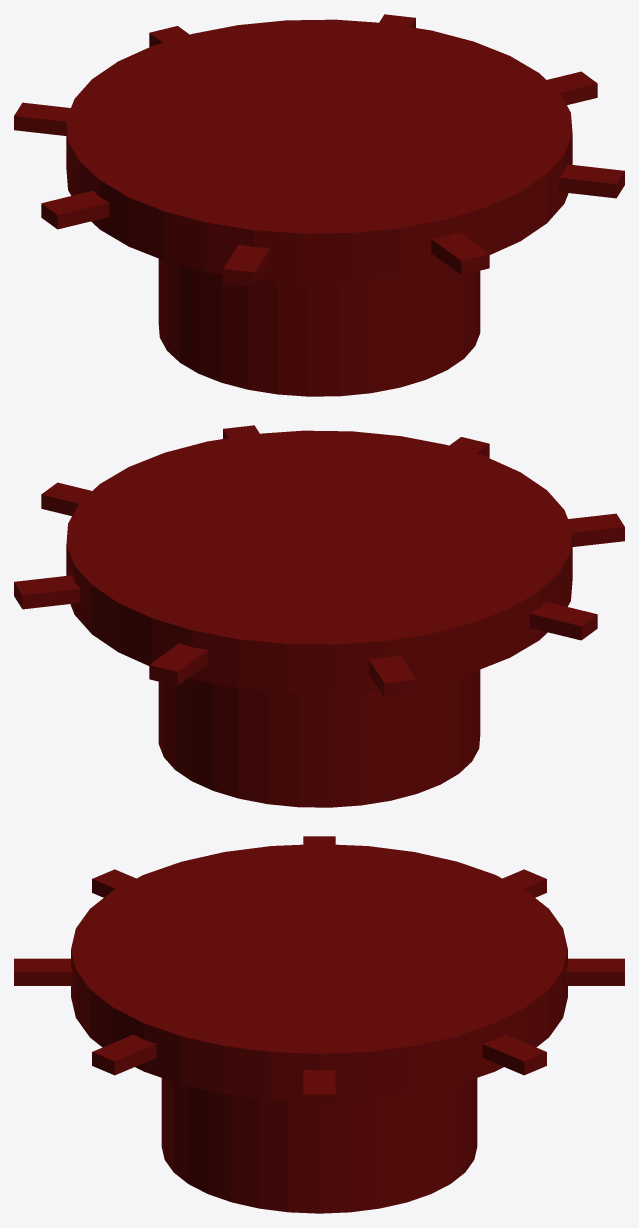
File: Rojo9.fbx
3 renders of one model, top to bottom at view 1: azimuth 30°, elevation 25°; view 2: azimuth 150°, elevation 25°; view 3: azimuth 270°, elevation 25°, orthographic. The views are drawn at different scales.
Visible parts, largest first — view 1: 13_Rojo; view 2: 13_Rojo; view 3: 13_Rojo.
Part boxes in pixels (x1,y1,x2,y2): 13_Rojo: (14, 14, 624, 396); 13_Rojo: (14, 425, 624, 807); 13_Rojo: (14, 836, 624, 1213).
Size of the model in its own units: 0.9142 by 0.3269 by 0.9142.
